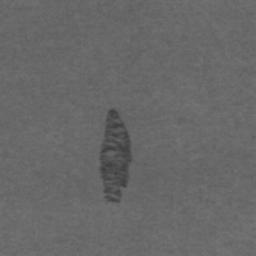Secondary rust skin: (99, 108, 133, 203)
